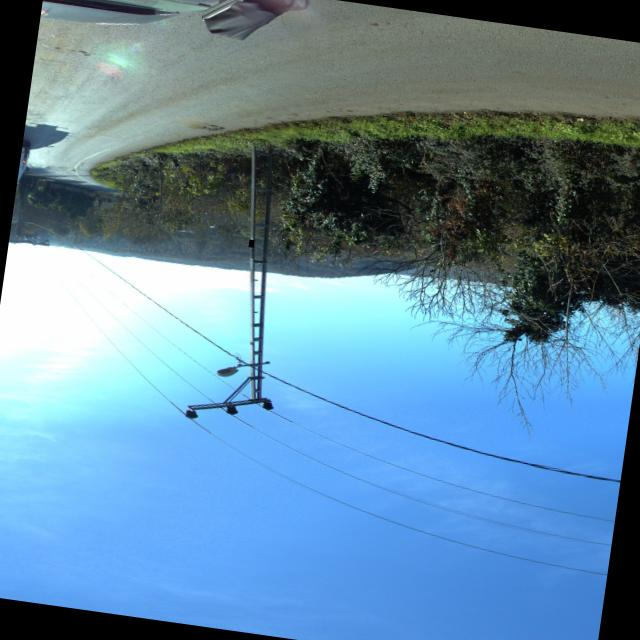Utility Pole Information Plate: (248, 238, 253, 247)
